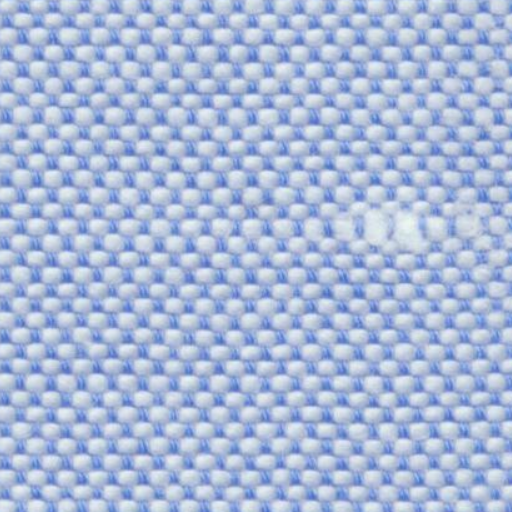DaiSha: (332, 199, 469, 259)
